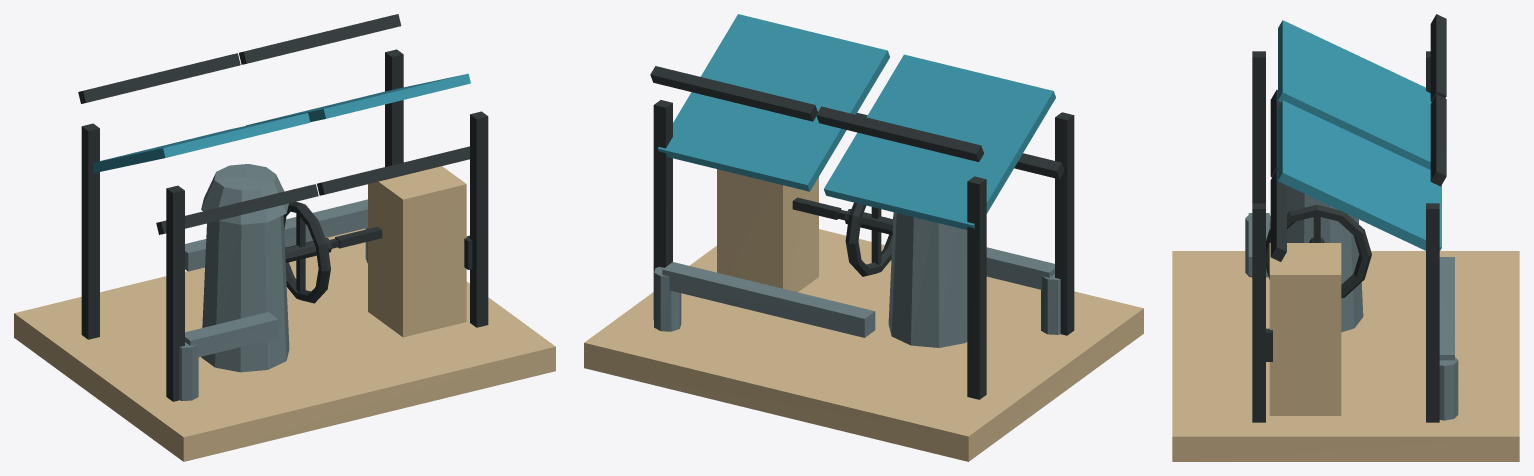
File: solar-pump.source.glb
3 views of the same model, side by side, from view 1: azimuth 30°, elevation 25°; view 2: azimuth 150°, elevation 25°; view 3: azimuth 270°, elevation 25° (orthographic). The views are drawn at different scales.
Visible parts, largest first — view 1: solar-pump-concrete-equipment-pad-mesh, solar-pump-cream-control-cabinet-mesh, solar-pump-vertical-pump-cylinder-mesh, solar-pump-solar-frame-post-1.55-0.75-mesh, solar-pump-solar-frame-post--1.55--0.75-mesh, solar-pump-solar-frame-post--1.55-0.75-mesh, solar-pump-pump-cap-mesh, solar-pump-tilted-solar-panel--0.82-mesh, solar-pump-inlet-pipe-run-mesh, solar-pump-outlet-pipe-run-mesh, solar-pump-tilted-solar-panel-0.82-mesh, solar-pump-solar-panel-upper-rail--0.82-mesh (+8 smaller); view 2: solar-pump-concrete-equipment-pad-mesh, solar-pump-tilted-solar-panel-0.82-mesh, solar-pump-tilted-solar-panel--0.82-mesh, solar-pump-cream-control-cabinet-mesh, solar-pump-vertical-pump-cylinder-mesh, solar-pump-outlet-pipe-run-mesh, solar-pump-solar-frame-post--1.55--0.75-mesh, solar-pump-solar-frame-post--1.55-0.75-mesh, solar-pump-solar-frame-post-1.55--0.75-mesh, solar-pump-solar-panel-upper-rail--0.82-mesh, solar-pump-solar-panel-upper-rail-0.82-mesh, solar-pump-inlet-pipe-run-mesh (+6 smaller); view 3: solar-pump-concrete-equipment-pad-mesh, solar-pump-tilted-solar-panel-0.82-mesh, solar-pump-tilted-solar-panel--0.82-mesh, solar-pump-cream-control-cabinet-mesh, solar-pump-vertical-pump-cylinder-mesh, solar-pump-solar-frame-post-1.55--0.75-mesh, solar-pump-solar-frame-post-1.55-0.75-mesh, solar-pump-solar-frame-post--1.55-0.75-mesh, solar-pump-flywheel-rim-mesh, solar-pump-outlet-pipe-run-mesh, solar-pump-solar-panel-upper-rail-0.82-mesh, solar-pump-solar-panel-upper-rail--0.82-mesh (+4 smaller).
Part boxes in pixels (box(x1,y1,x2,y2)): solar-pump-concrete-equipment-pad-mesh: box(14, 228, 555, 461); solar-pump-cream-control-cabinet-mesh: box(368, 166, 466, 337); solar-pump-vertical-pump-cylinder-mesh: box(201, 215, 289, 372); solar-pump-solar-frame-post-1.55-0.75-mesh: box(470, 111, 488, 327); solar-pump-solar-frame-post--1.55--0.75-mesh: box(81, 123, 99, 339); solar-pump-solar-frame-post--1.55-0.75-mesh: box(166, 185, 184, 401); solar-pump-pump-cap-mesh: box(201, 164, 288, 224); solar-pump-tilted-solar-panel--0.82-mesh: box(93, 113, 310, 173); solar-pump-inlet-pipe-run-mesh: box(185, 312, 278, 357); solar-pump-outlet-pipe-run-mesh: box(185, 199, 367, 271); solar-pump-tilted-solar-panel-0.82-mesh: box(246, 73, 470, 125); solar-pump-solar-panel-upper-rail--0.82-mesh: box(78, 53, 240, 103); solar-pump-concrete-equipment-pad-mesh: box(584, 229, 1143, 461); solar-pump-tilted-solar-panel-0.82-mesh: box(658, 14, 889, 191); solar-pump-tilted-solar-panel--0.82-mesh: box(824, 54, 1055, 229); solar-pump-cream-control-cabinet-mesh: box(717, 169, 818, 292); solar-pump-vertical-pump-cylinder-mesh: box(888, 212, 967, 347); solar-pump-outlet-pipe-run-mesh: box(662, 262, 875, 337); solar-pump-solar-frame-post--1.55--0.75-mesh: box(967, 176, 986, 399); solar-pump-solar-frame-post--1.55-0.75-mesh: box(1055, 112, 1074, 335); solar-pump-solar-frame-post-1.55--0.75-mesh: box(653, 100, 672, 319); solar-pump-solar-panel-upper-rail--0.82-mesh: box(816, 106, 983, 161); solar-pump-solar-panel-upper-rail-0.82-mesh: box(650, 66, 817, 121); solar-pump-inlet-pipe-run-mesh: box(986, 247, 1054, 289); solar-pump-concrete-equipment-pad-mesh: box(1172, 251, 1519, 461); solar-pump-tilted-solar-panel-0.82-mesh: box(1278, 100, 1441, 250); solar-pump-tilted-solar-panel--0.82-mesh: box(1278, 20, 1431, 169); solar-pump-cream-control-cabinet-mesh: box(1269, 243, 1341, 415); solar-pump-vertical-pump-cylinder-mesh: box(1287, 185, 1363, 332); solar-pump-solar-frame-post-1.55--0.75-mesh: box(1426, 203, 1439, 422); solar-pump-solar-frame-post-1.55-0.75-mesh: box(1252, 203, 1265, 422); solar-pump-solar-frame-post--1.55-0.75-mesh: box(1252, 51, 1265, 203); solar-pump-flywheel-rim-mesh: box(1266, 204, 1371, 298); solar-pump-outlet-pipe-run-mesh: box(1439, 257, 1454, 360); solar-pump-solar-panel-upper-rail-0.82-mesh: box(1430, 94, 1446, 186); solar-pump-solar-panel-upper-rail--0.82-mesh: box(1430, 14, 1446, 101).
Size of the model in its own units: 3.8 by 2.63 by 3.
